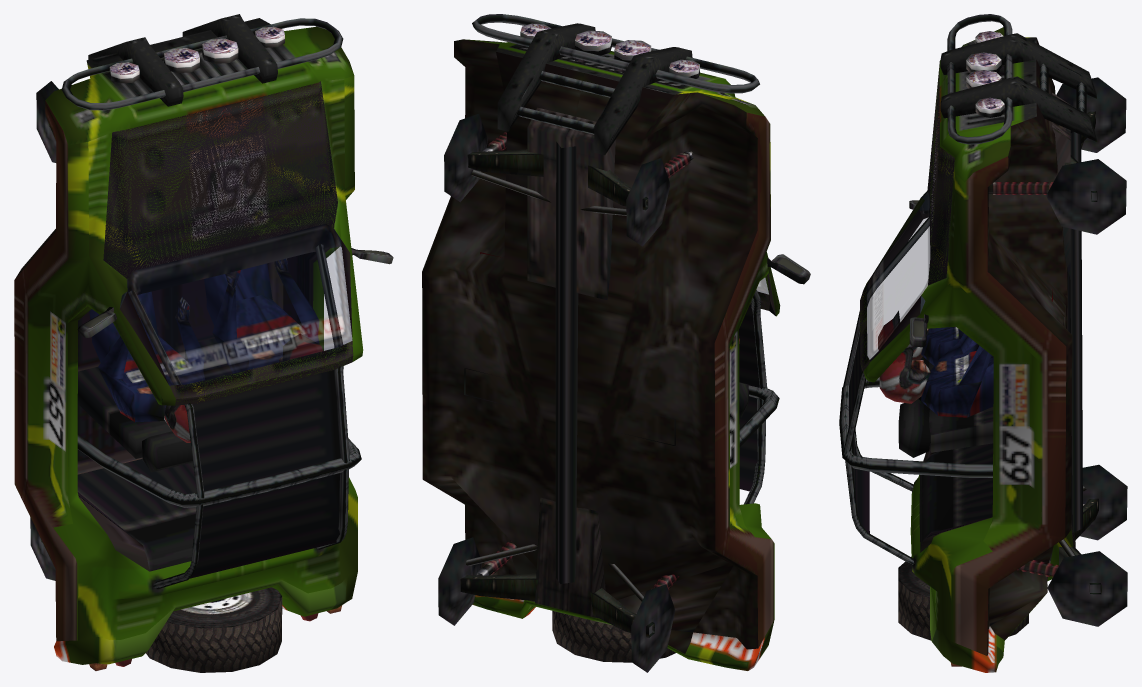
Rendered from bushranger.obj.
The picture shows the model from 3 angles, left to right: view 1: azimuth 30°, elevation 25°; view 2: azimuth 150°, elevation 25°; view 3: azimuth 270°, elevation 25°; orthographic projection. The views are drawn at different scales.
Parts seen in each view (by area): view 1: frame_11.10.2025_16.56.17; view 2: frame_11.10.2025_16.56.17; view 3: frame_11.10.2025_16.56.17.
Boxes of the visible parts, bbox=[...] form: frame_11.10.2025_16.56.17: bbox=[14, 14, 393, 672]; frame_11.10.2025_16.56.17: bbox=[422, 14, 810, 672]; frame_11.10.2025_16.56.17: bbox=[839, 14, 1127, 672].
Size of the model in its own units: 2.01 by 3.71 by 1.72.
6 materials, 6 textured.
